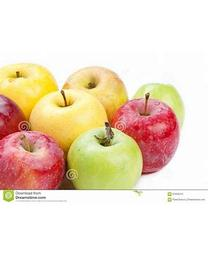apple: (109, 92, 178, 172), (66, 122, 142, 189), (28, 87, 107, 151), (0, 130, 65, 189), (61, 65, 128, 119), (0, 62, 58, 120), (131, 82, 185, 127), (0, 94, 27, 139)
